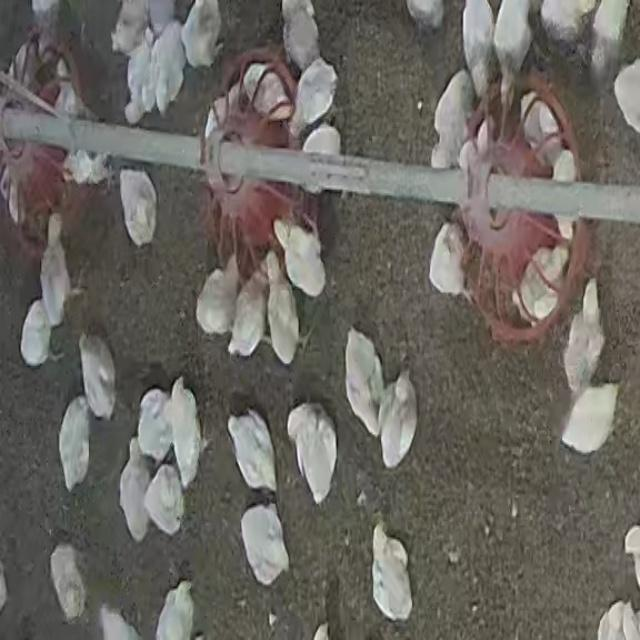chicken: (287, 405, 336, 504), (560, 383, 620, 456), (564, 284, 604, 392), (228, 409, 278, 494), (371, 523, 413, 623), (274, 218, 327, 296), (345, 328, 384, 433), (264, 249, 299, 366), (239, 503, 287, 586), (431, 72, 472, 166), (495, 0, 531, 104), (228, 268, 269, 358), (167, 378, 200, 489), (290, 58, 338, 134), (380, 373, 418, 469), (196, 253, 239, 337), (38, 213, 70, 325), (460, 0, 498, 91), (119, 440, 152, 542), (150, 20, 186, 113), (79, 335, 116, 420), (142, 461, 182, 538), (58, 398, 90, 492), (118, 169, 157, 246), (244, 62, 293, 120), (281, 0, 321, 71), (302, 118, 338, 196), (180, 0, 221, 68), (21, 302, 62, 370), (517, 265, 563, 323), (428, 224, 464, 298), (123, 39, 154, 123), (50, 544, 85, 618), (139, 389, 173, 461), (50, 60, 88, 124), (154, 583, 195, 638), (206, 82, 239, 147), (111, 1, 148, 54), (522, 96, 556, 152), (65, 148, 111, 186)
